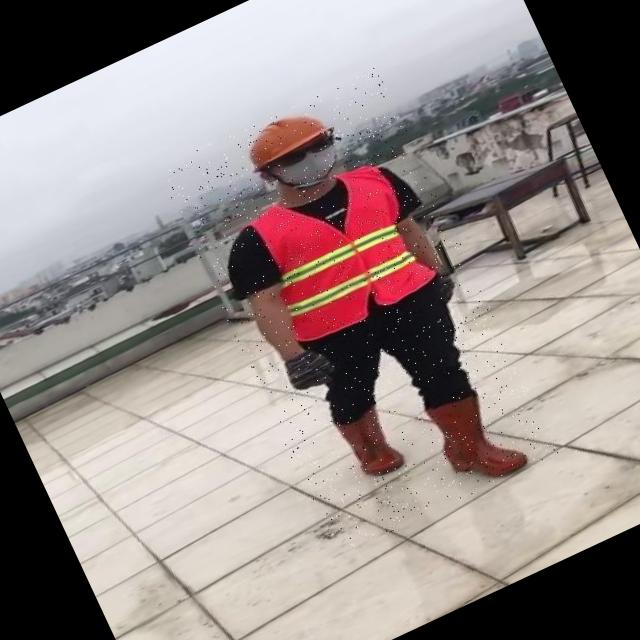hard_hat: (233, 92, 342, 176)
safety_vest: (237, 152, 449, 348)
vehicle: (157, 66, 558, 556)
work_boots: (420, 380, 532, 498), (332, 398, 411, 486)
